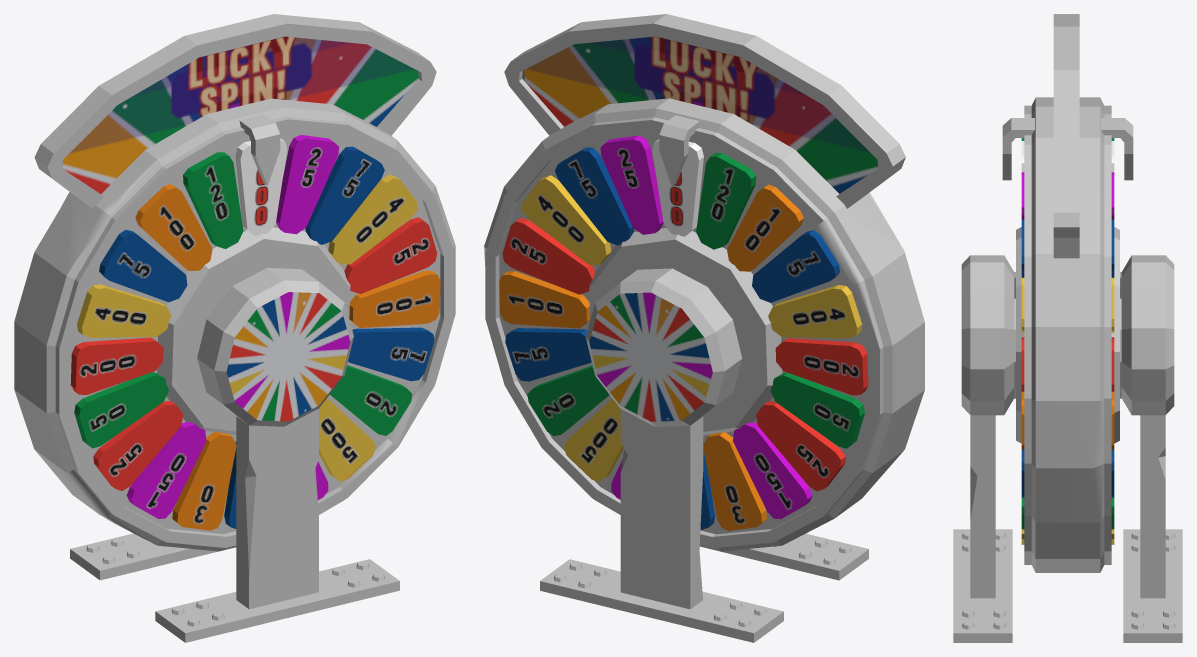
Rendered from SM_Prop_Fortune_Wheel_03.fbx.
3 views of the same model, side by side, from view 1: azimuth 30°, elevation 25°; view 2: azimuth 150°, elevation 25°; view 3: azimuth 270°, elevation 25° (orthographic).
Parts seen in each view (by area): view 1: SM_Prop_Fortune_Wheel_03; view 2: SM_Prop_Fortune_Wheel_03; view 3: SM_Prop_Fortune_Wheel_03.
Boxes of the visible parts, left/top/right/bottom form: SM_Prop_Fortune_Wheel_03: left=14, top=14, right=455, bottom=642; SM_Prop_Fortune_Wheel_03: left=484, top=14, right=924, bottom=642; SM_Prop_Fortune_Wheel_03: left=953, top=14, right=1182, bottom=642.
Bounding box in the file's own units: 233 × 297 × 114.
